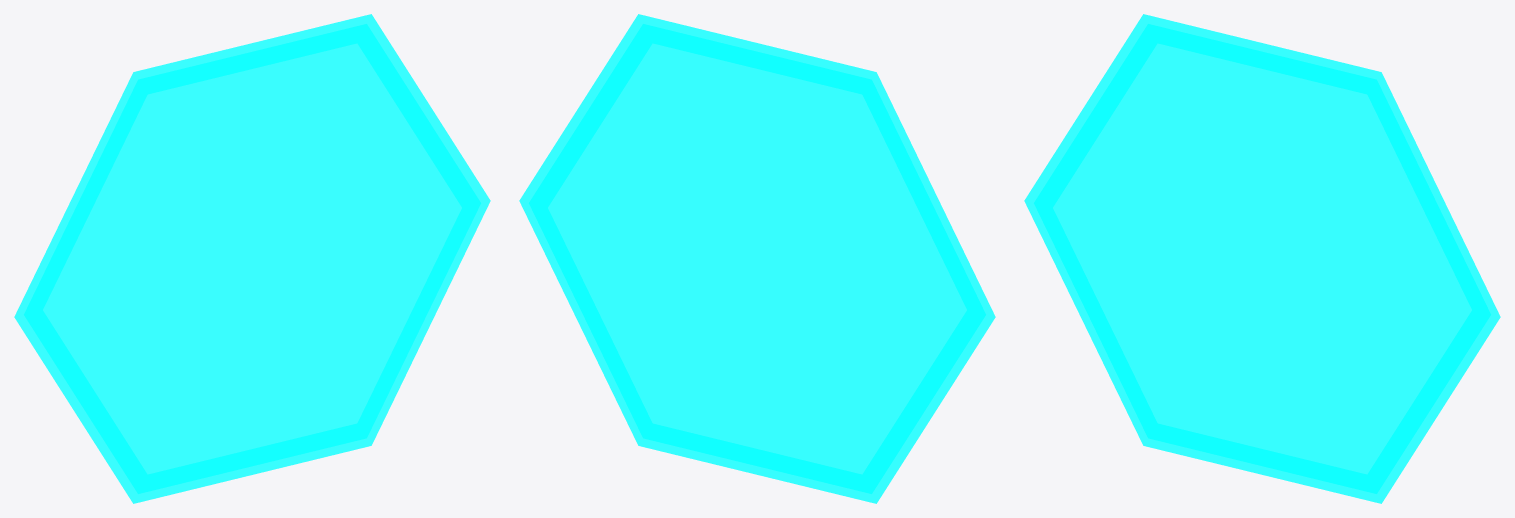
The model's file is aura-shield.glb.
3 renders of one model, left to right at view 1: azimuth 30°, elevation 25°; view 2: azimuth 150°, elevation 25°; view 3: azimuth 330°, elevation 25°, orthographic.
Parts seen in each view (by area): view 1: AuraShield; view 2: AuraShield; view 3: AuraShield.
Boxes of the visible parts, left/top/right/bottom form: AuraShield: left=14, top=14, right=490, bottom=503; AuraShield: left=519, top=14, right=995, bottom=503; AuraShield: left=1024, top=14, right=1500, bottom=503.
Bounding box in the file's own units: 1 × 0.866 × 0.
